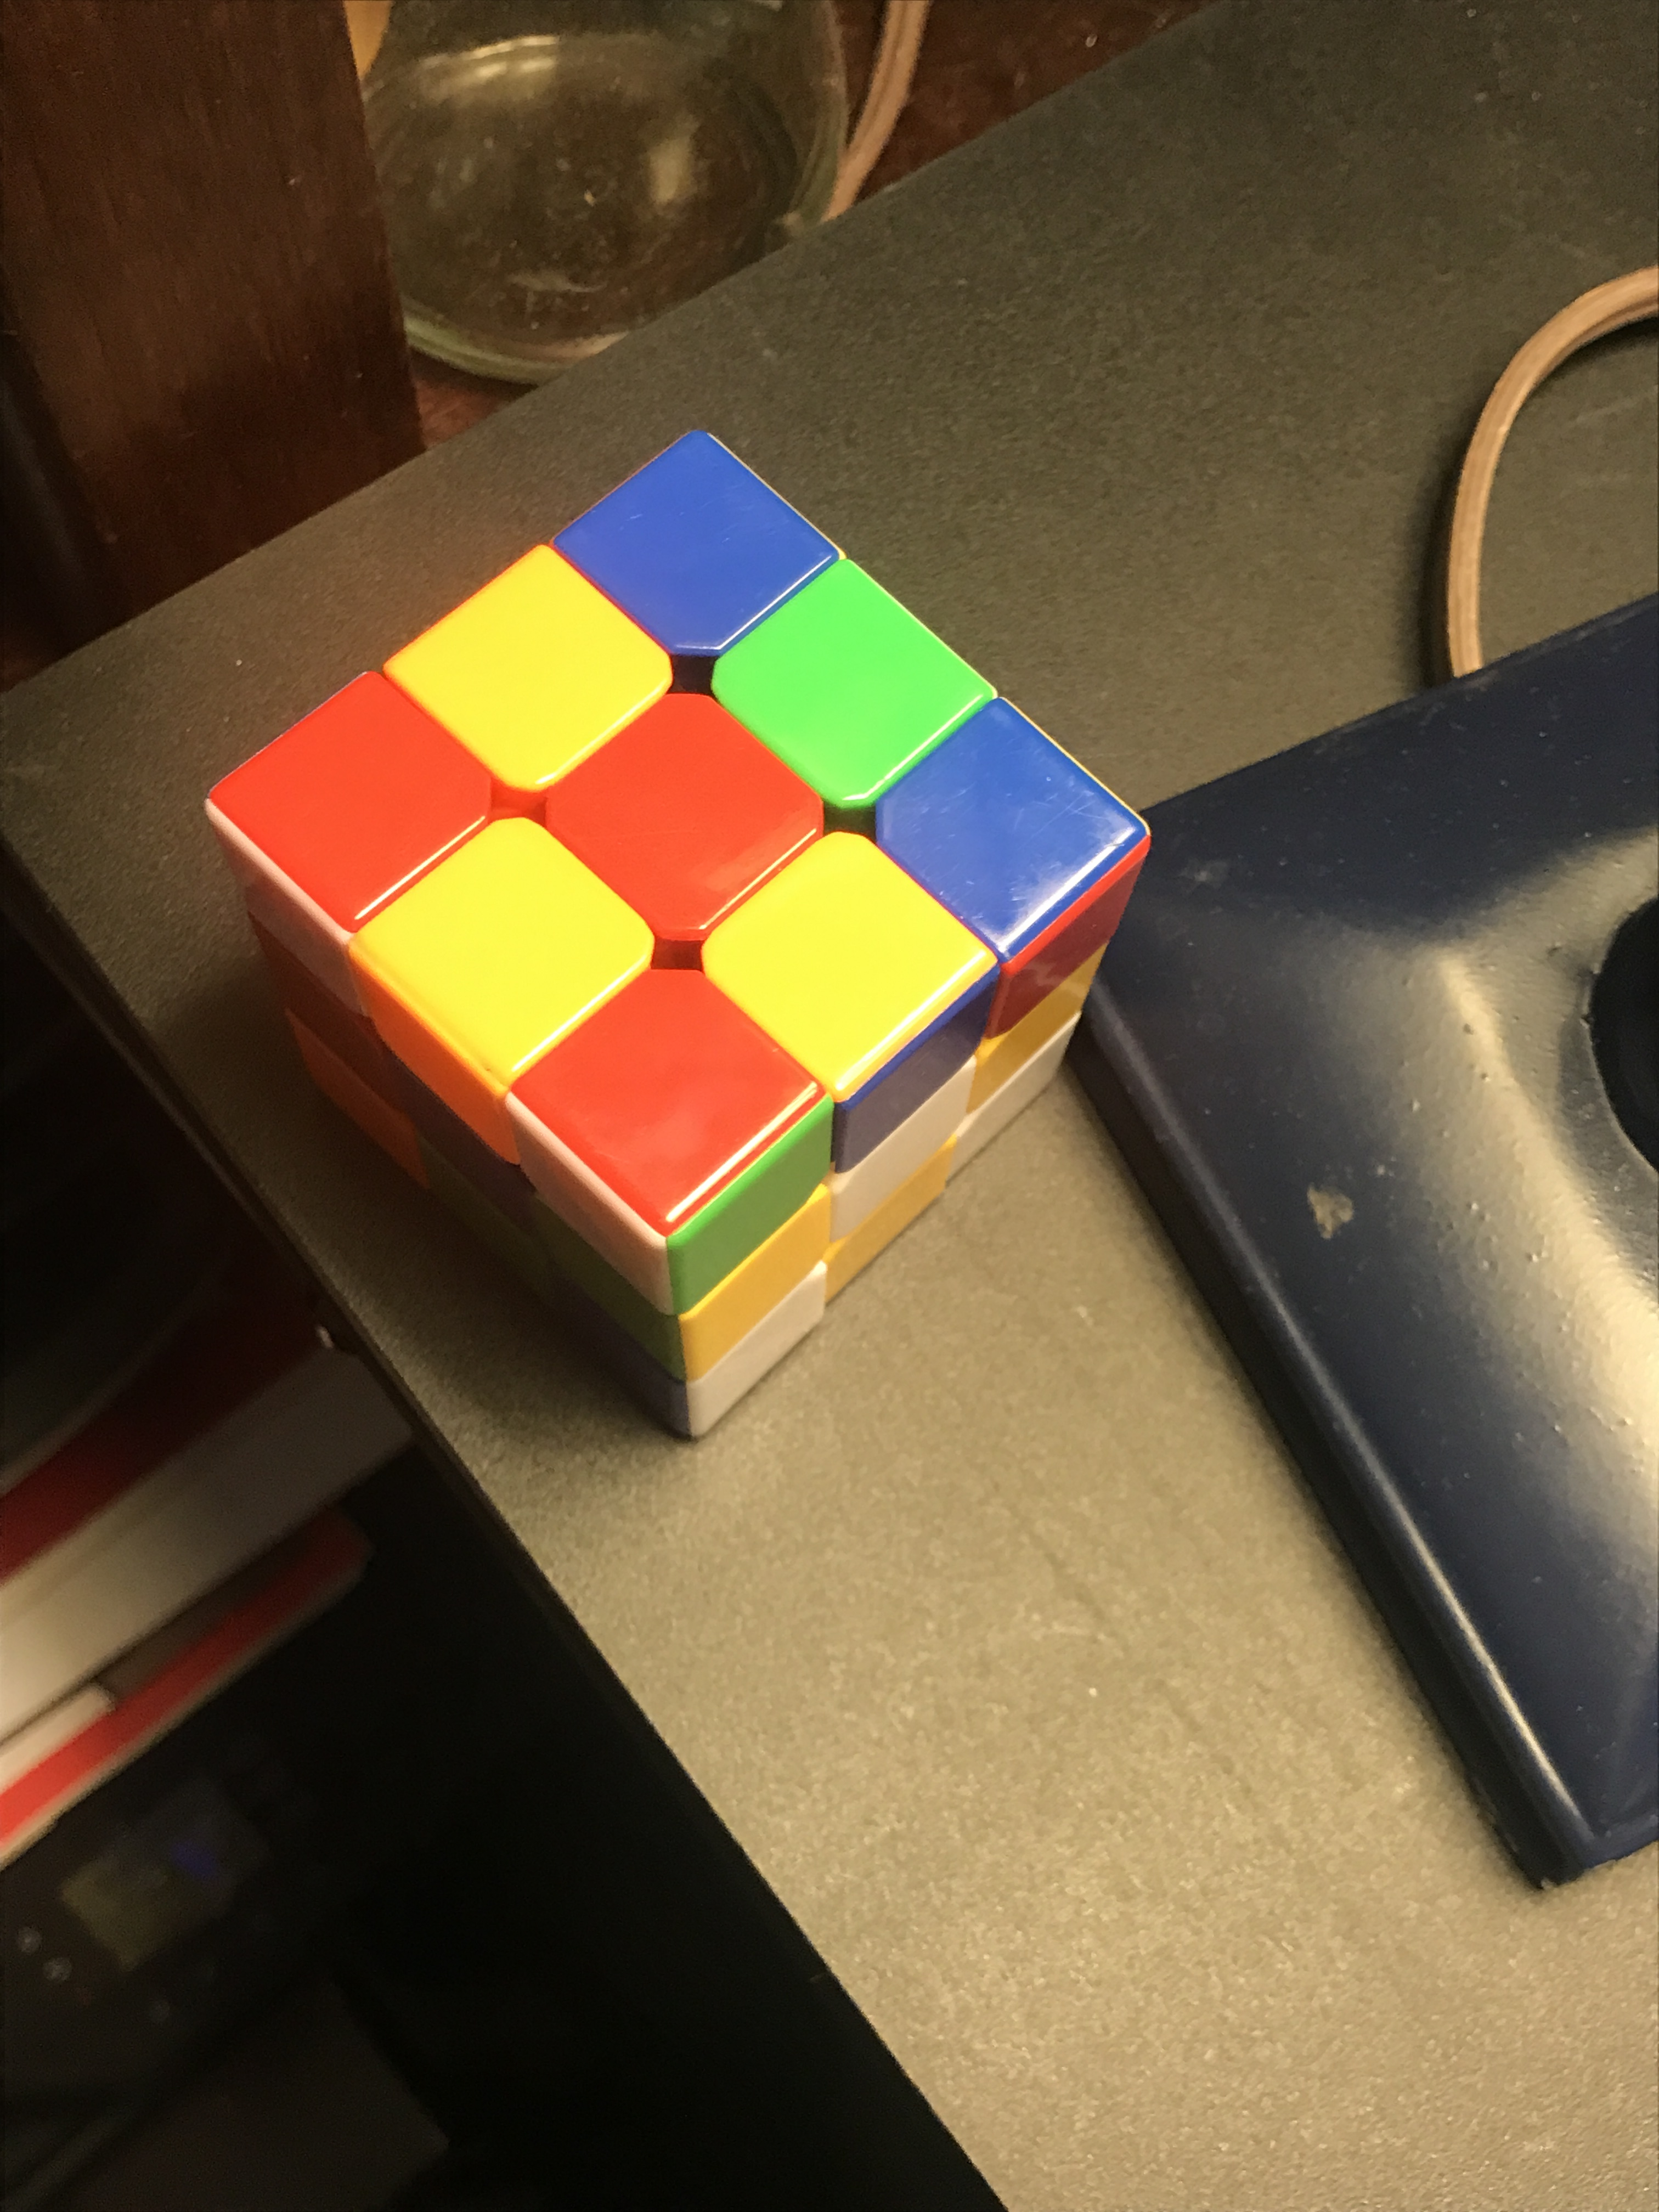rubiks: (207, 434, 1122, 1447)
